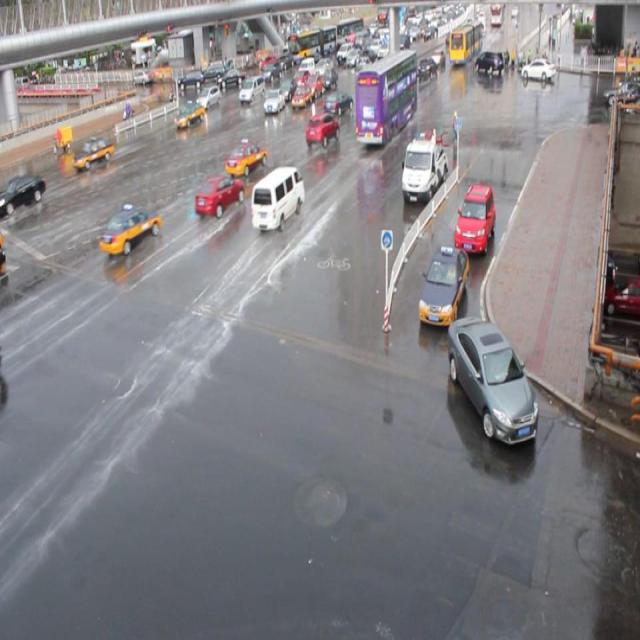bus: (400, 129, 447, 204)
car: (446, 314, 538, 445), (418, 242, 469, 329), (99, 205, 162, 256), (454, 182, 494, 255), (193, 173, 246, 220), (1, 173, 46, 213), (224, 140, 266, 178), (72, 138, 116, 170), (305, 113, 339, 149), (174, 101, 205, 131), (321, 89, 351, 118), (263, 89, 285, 114), (292, 84, 312, 108), (279, 77, 297, 100), (306, 73, 324, 96), (293, 68, 310, 90)
truck: (252, 168, 304, 233)
van: (354, 48, 418, 148)
